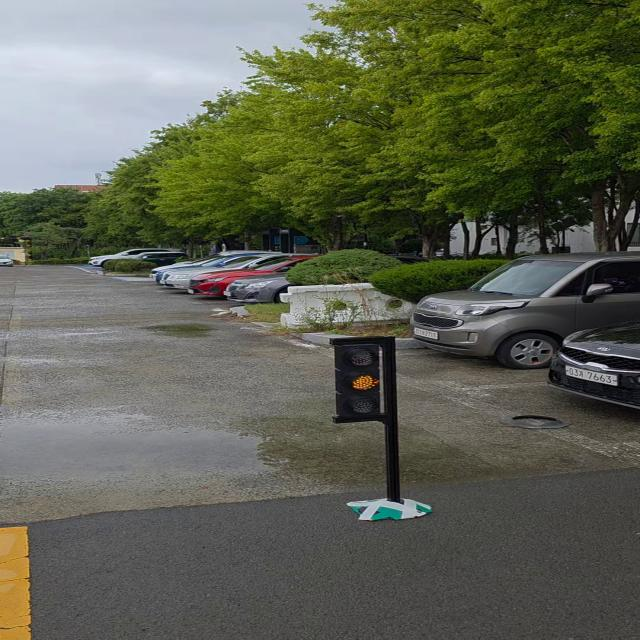yellow: (327, 342, 394, 419)
